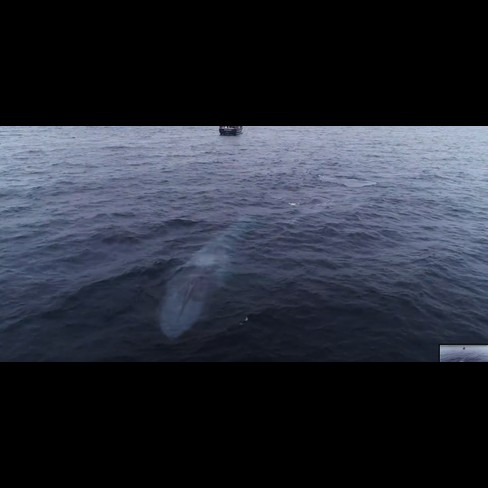bluewhale: (148, 170, 290, 344)
